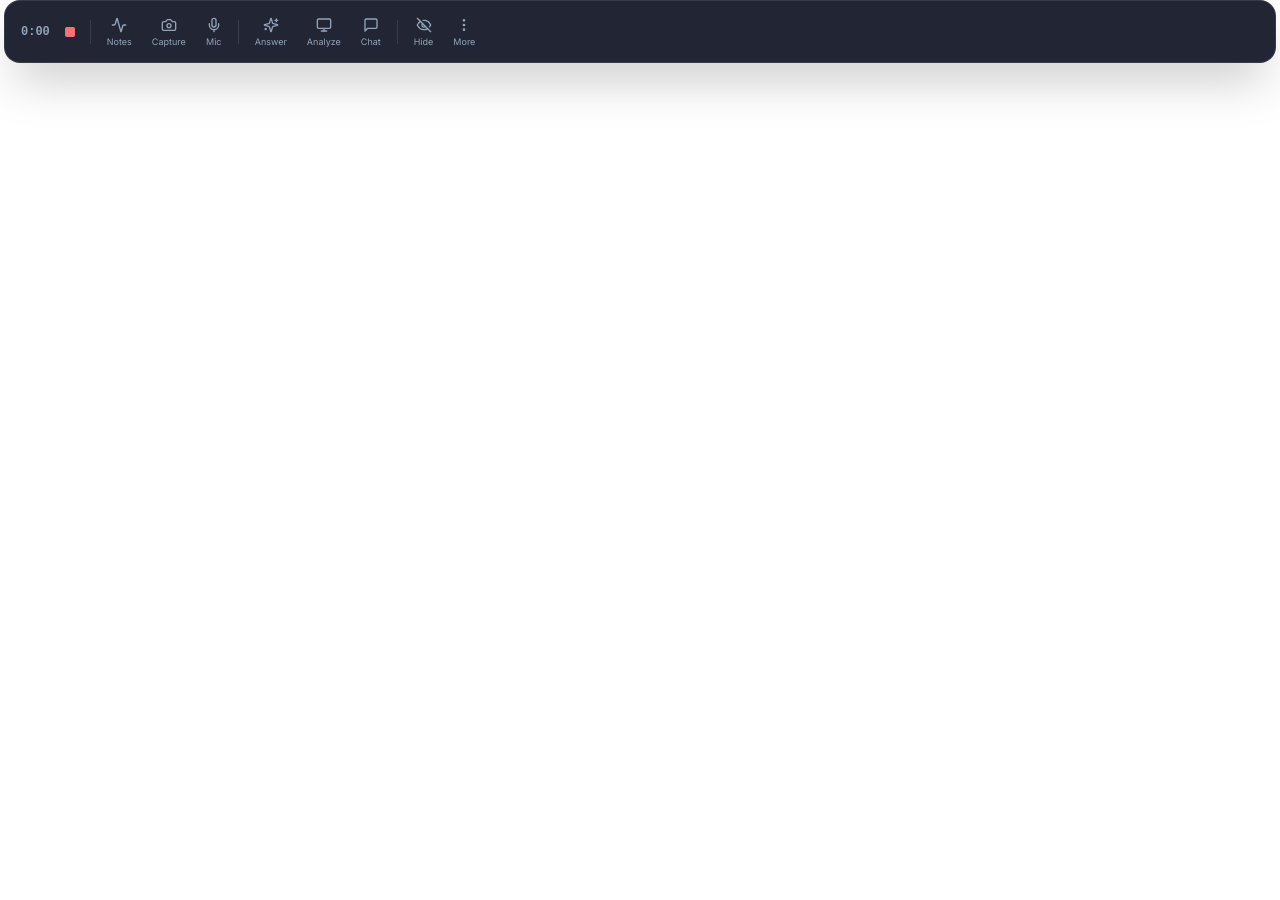
SessionScreen › shows a restore button when the bar is hidden
What coordinates should you click on to do the following:
click the button with aria-label "hide session"
I would click on:
 (424, 32)
Its box is [406,9,441,54].
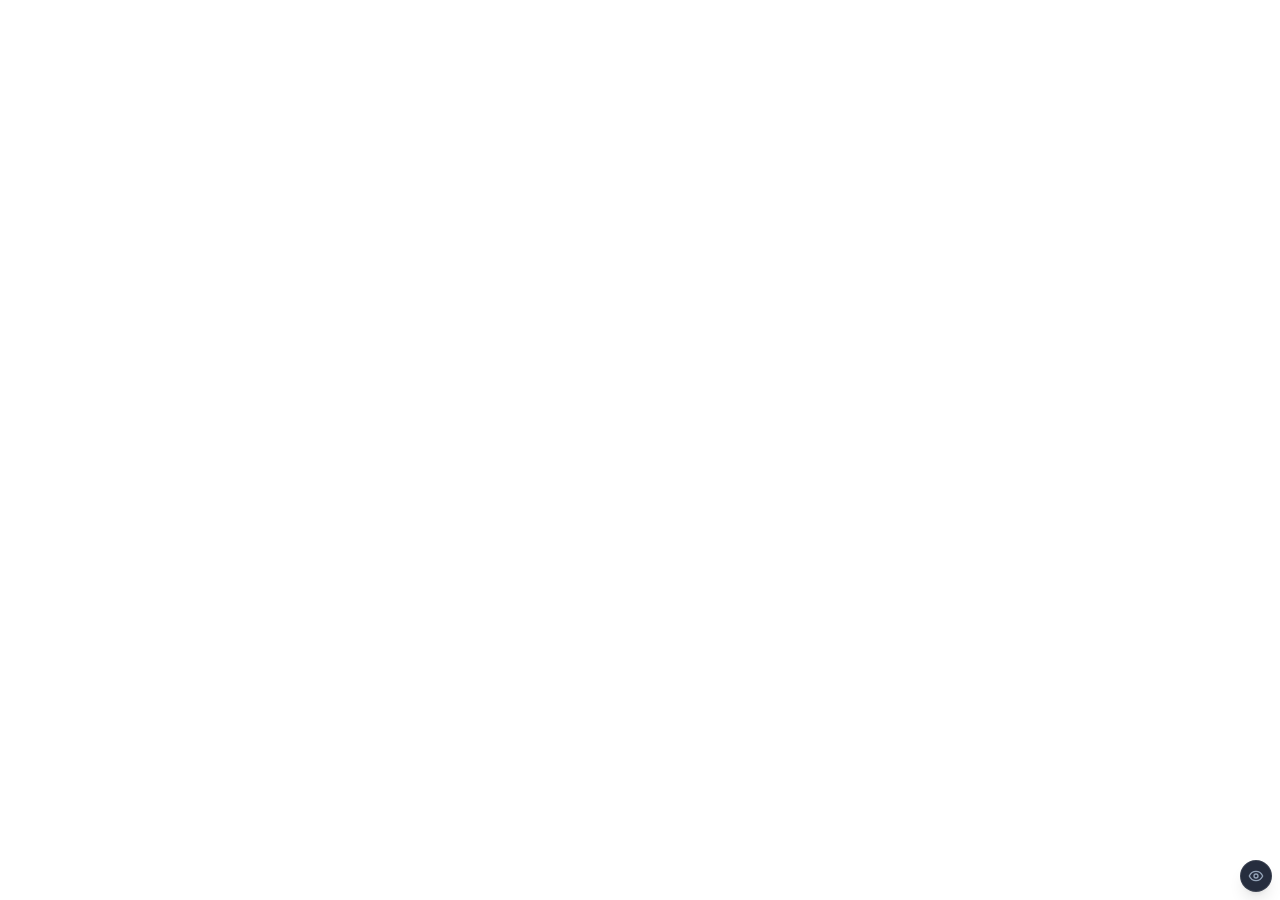
Check: the button named "show session" is shown, box [1240,860,1272,892]
